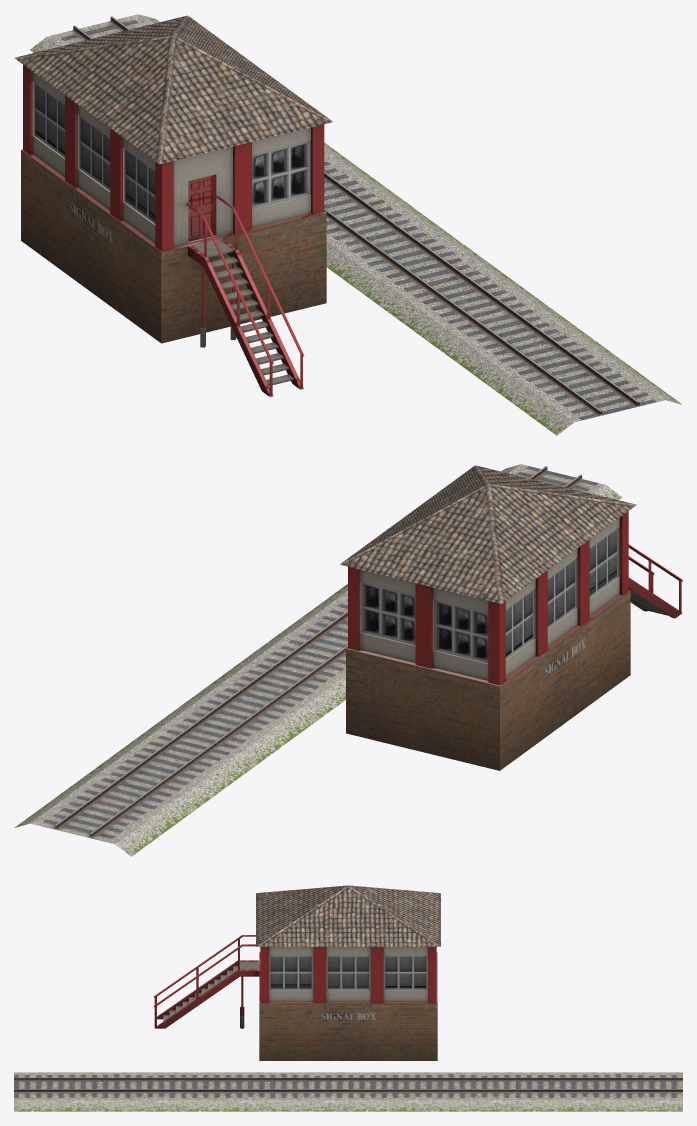
Rendered from SignalBox1.fbx.
3 renders of one model, top to bottom at view 1: azimuth 30°, elevation 25°; view 2: azimuth 150°, elevation 25°; view 3: azimuth 270°, elevation 25°, orthographic. The views are drawn at different scales.
Visible parts, largest first — view 1: U3DMesh; view 2: U3DMesh; view 3: U3DMesh.
Boxes of the visible parts, <box> form: U3DMesh: <box>14,14,682,435</box>; U3DMesh: <box>14,464,682,856</box>; U3DMesh: <box>14,885,682,1111</box>.
Bounding box in the file's own units: 11.66 × 7.92 × 32.
